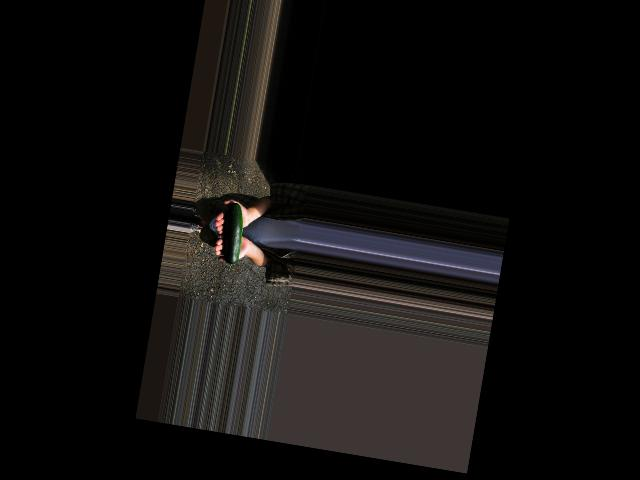cucumber: (216, 202, 247, 272)
